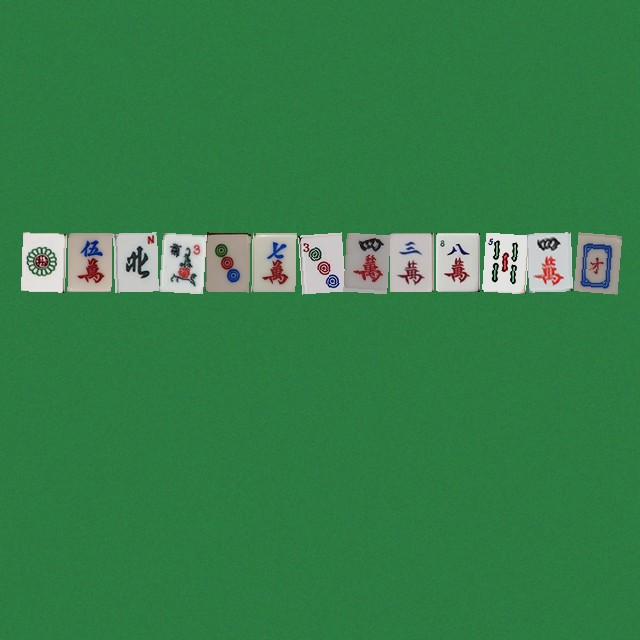tile: (21, 232, 65, 291), (67, 232, 111, 291), (113, 232, 157, 291), (159, 232, 203, 291), (205, 232, 249, 291), (251, 232, 295, 291), (297, 232, 341, 291), (343, 232, 387, 291), (389, 232, 433, 291), (435, 232, 479, 291), (481, 232, 525, 291), (527, 232, 571, 291), (573, 232, 617, 291)
